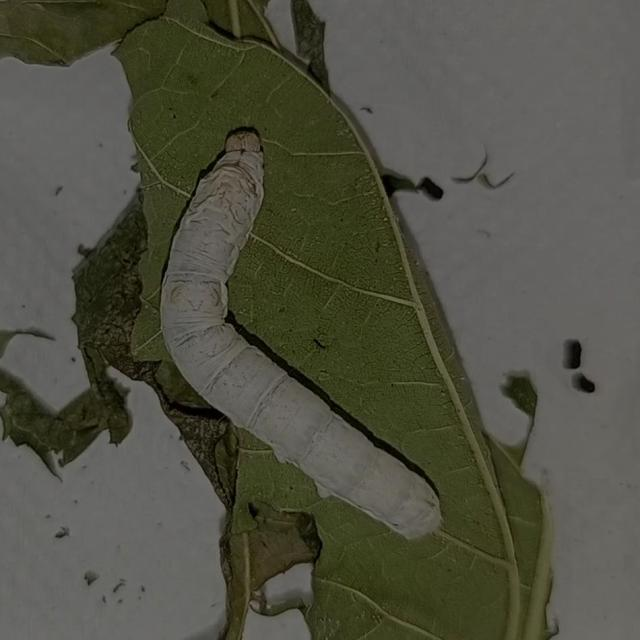Healthy: (144, 108, 462, 556)
